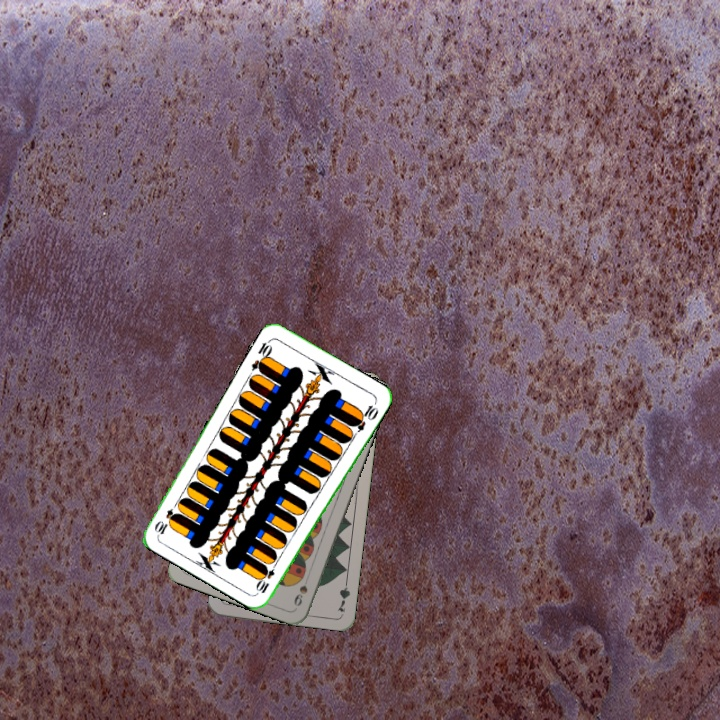E10: (247, 335, 275, 375), (252, 557, 280, 596)
G7: (333, 574, 353, 614)
S9: (290, 571, 312, 609)
